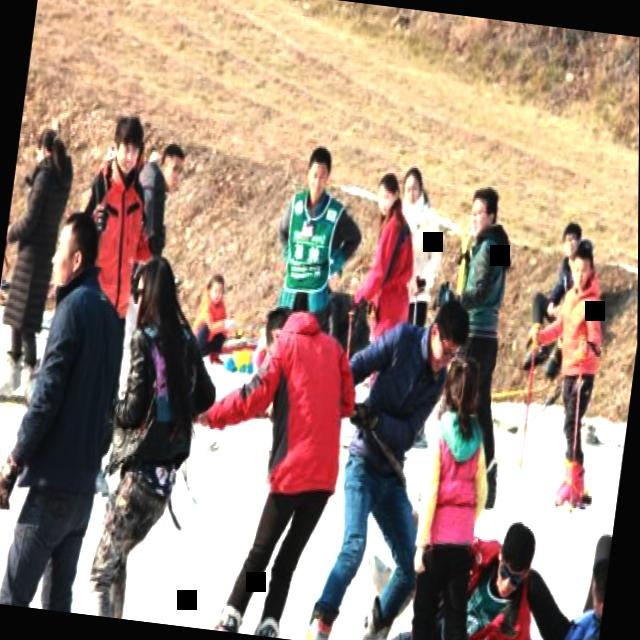Fall-Detected: (340, 501, 585, 640)
